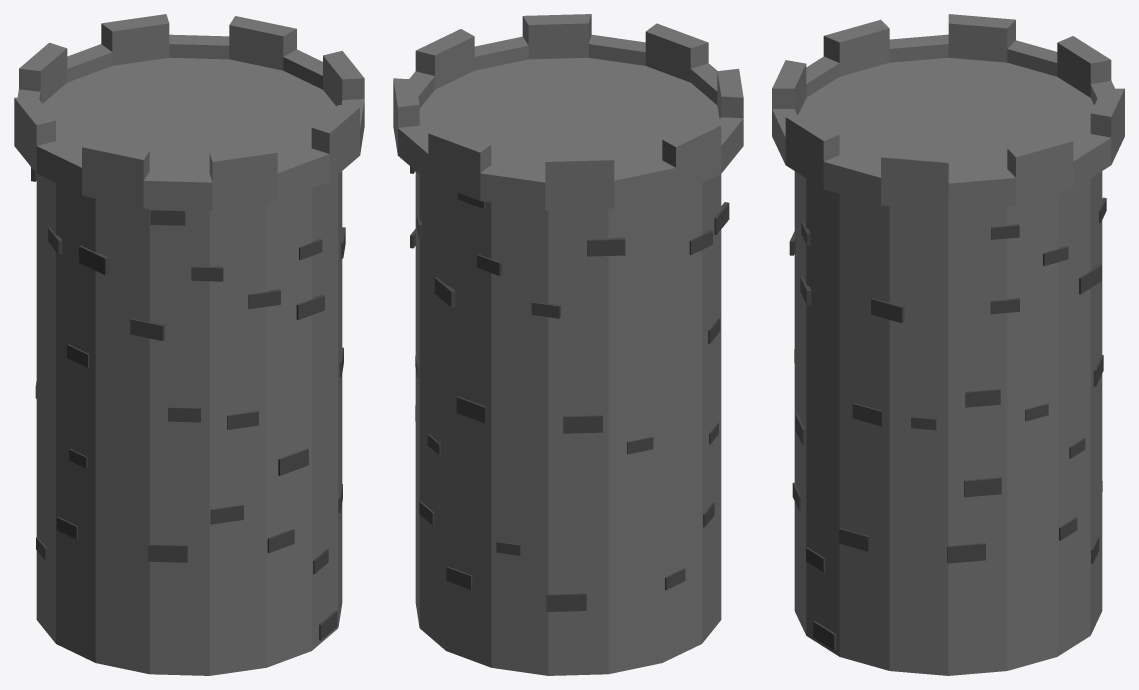
File: LargeCastle_Tower.fbx
3 views of the same model, side by side, from view 1: azimuth 30°, elevation 25°; view 2: azimuth 150°, elevation 25°; view 3: azimuth 270°, elevation 25° (orthographic).
Parts seen in each view (by area): view 1: Cylinder; view 2: Cylinder; view 3: Cylinder.
Boxes of the visible parts, x1=… form: Cylinder: x1=14, y1=14, x2=364, y2=675; Cylinder: x1=393, y1=14, x2=743, y2=675; Cylinder: x1=772, y1=14, x2=1124, y2=675.
Bounding box in the file's own units: 1146 × 1873 × 1146.
